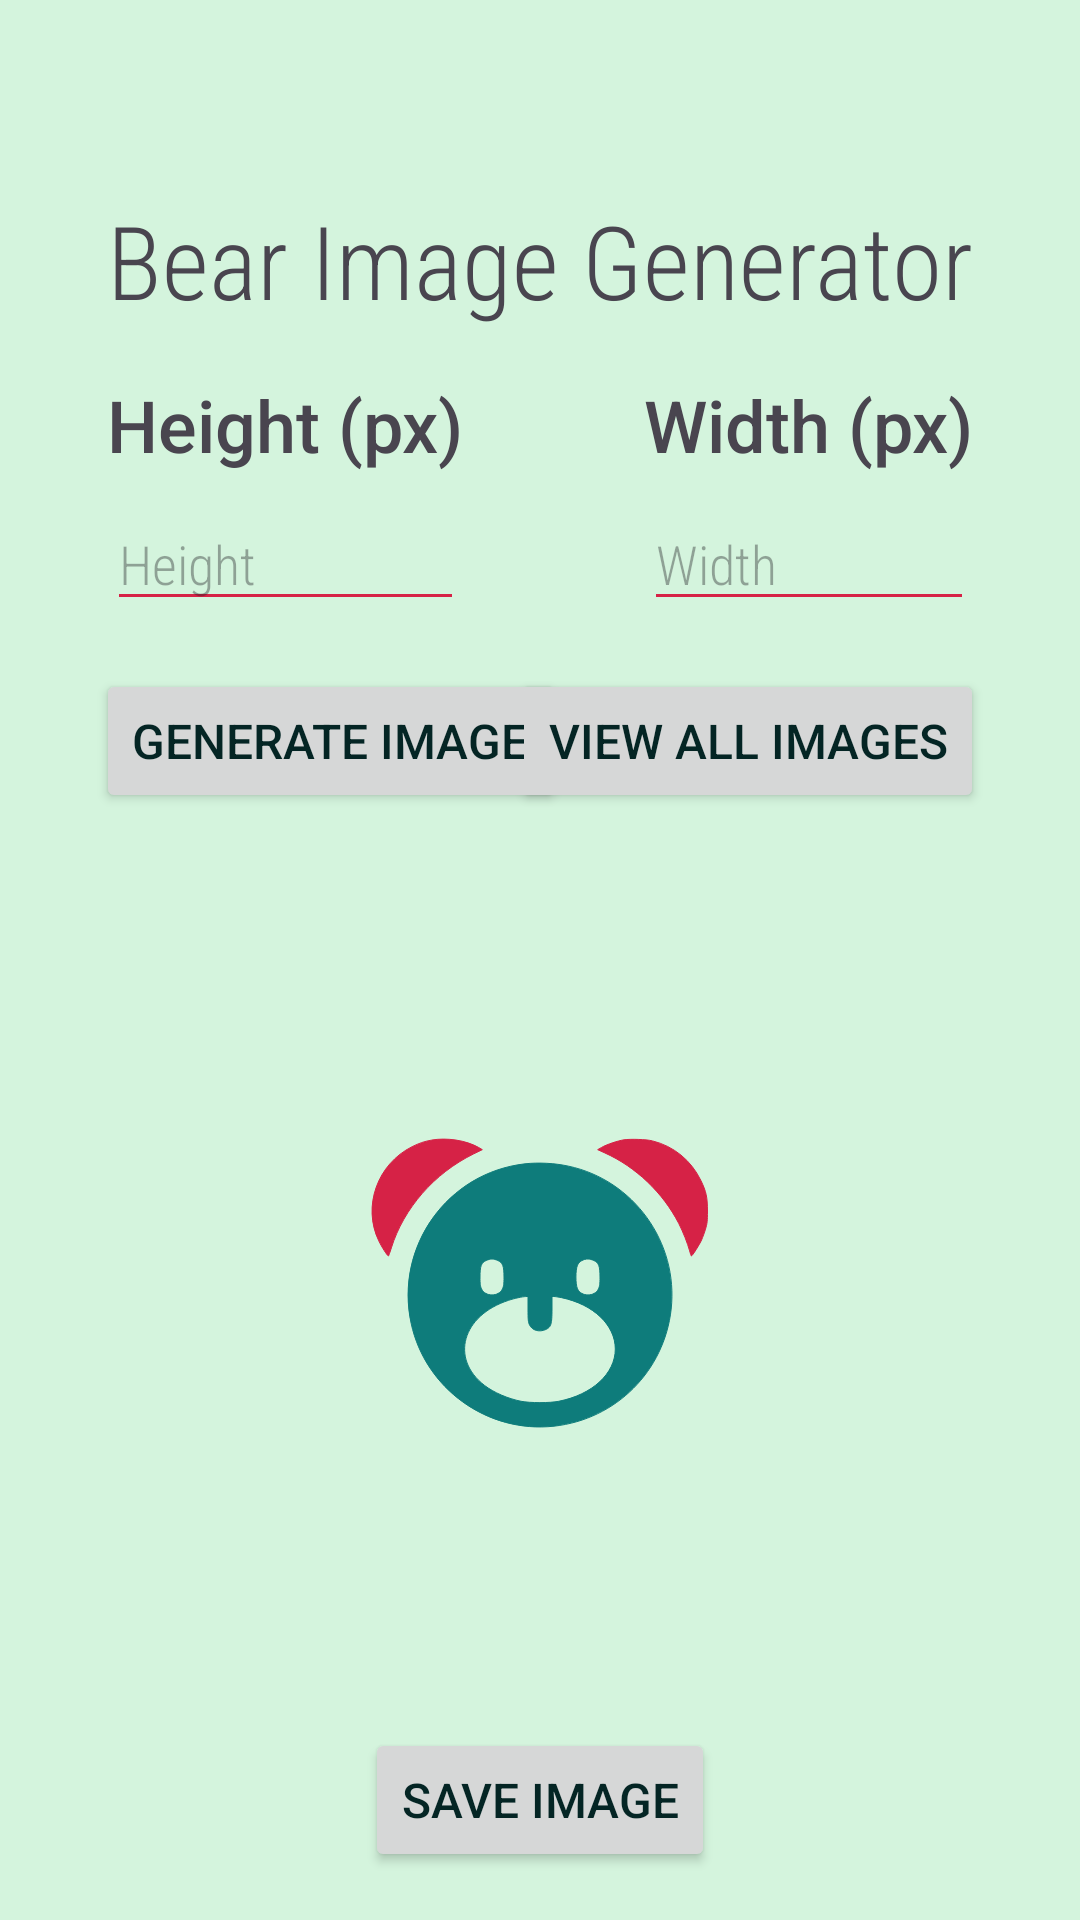

Icons on this 1080 x 1920 Android screen, each with its box as [x1=x1, y1=y1, x2=x2, y2=y2]:
bear: [x1=371, y1=1138, x2=708, y2=1428]
